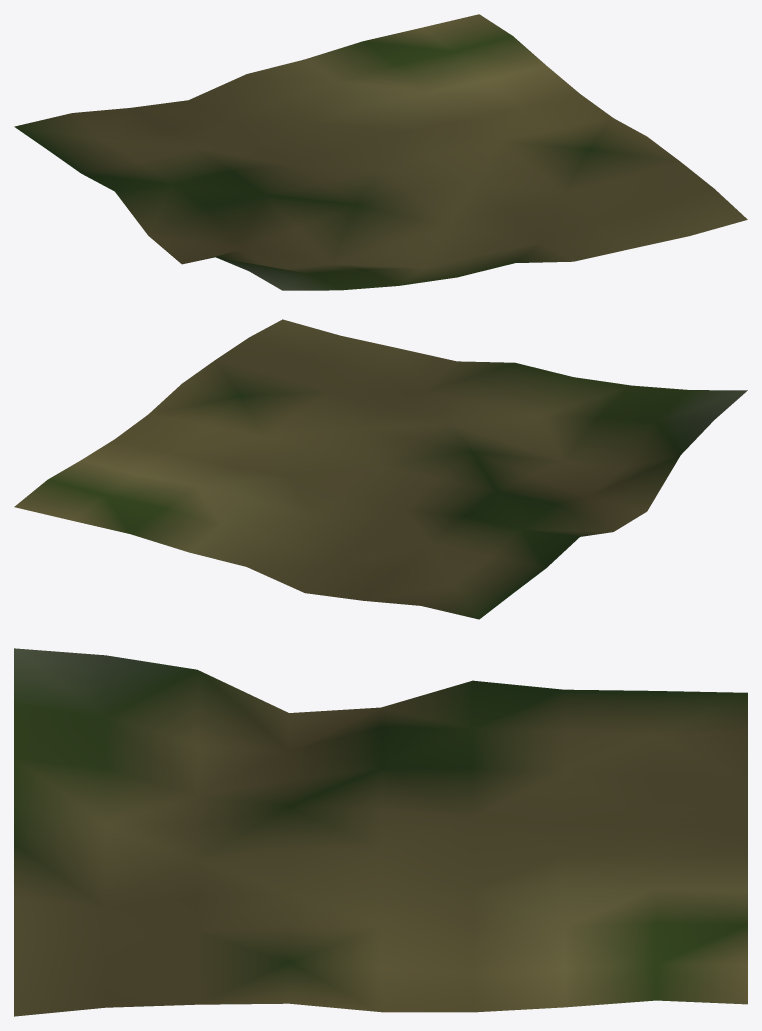
File: terrain_lod2_1_-1.obj
3 views of the same model, one above another, from view 1: azimuth 30°, elevation 25°; view 2: azimuth 150°, elevation 25°; view 3: azimuth 270°, elevation 25° (orthographic). The views are drawn at different scales.
Visible parts, largest first — view 1: terrain_lod2_1_-1; view 2: terrain_lod2_1_-1; view 3: terrain_lod2_1_-1.
Boxes of the visible parts, x1,y1,x2,y2 form: terrain_lod2_1_-1: (14,14,747,290); terrain_lod2_1_-1: (14,319,747,619); terrain_lod2_1_-1: (14,648,747,1016).
Size of the model in its own units: 128 by 13.44 by 128.
